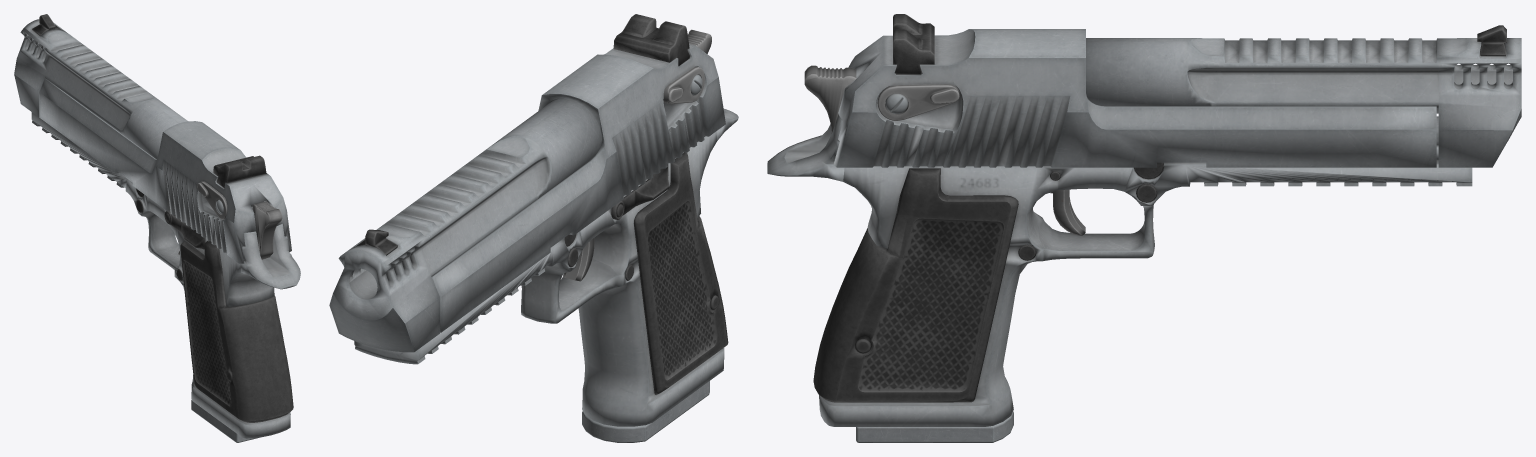
The model's file is deagle-world.glb.
The picture shows the model from 3 angles, left to right: view 1: azimuth 30°, elevation 25°; view 2: azimuth 150°, elevation 25°; view 3: azimuth 270°, elevation 25°; orthographic projection. The views are drawn at different scales.
Parts seen in each view (by area): view 1: slide, Grip, Barrel, Frame, Hammer, Ironsights Back, Slide Stop, magazine, Safety, Ironsights Front; view 2: Barrel, slide, Frame, Grip, Ironsights Back, magazine, Slide Stop, Safety, Trigger, Ironsights Front; view 3: slide, Barrel, Grip, Frame, magazine, Ironsights Back, Safety, Hammer, FrameScews, Trigger, Ironsights Front.
Boxes of the visible parts, box(x1,y1,x2,y2) form: slide: box(39, 78, 291, 263); Grip: box(180, 241, 293, 422); Barrel: box(14, 19, 187, 159); Frame: box(31, 112, 300, 438); Hammer: box(252, 201, 282, 259); Ironsights Back: box(213, 155, 266, 188); Slide Stop: box(164, 211, 205, 249); magazine: box(191, 207, 260, 442); Safety: box(197, 181, 227, 219); Ironsights Front: box(32, 14, 60, 35); Barrel: box(329, 98, 601, 352); slide: box(432, 44, 725, 332); Frame: box(354, 109, 738, 426); Grip: box(634, 152, 728, 395); Ironsights Back: box(613, 14, 689, 66); magazine: box(582, 381, 709, 442); Slide Stop: box(611, 164, 669, 219); Safety: box(663, 66, 704, 103); Trigger: box(563, 238, 594, 281); Ironsights Front: box(356, 229, 397, 255); slide: box(833, 29, 1438, 167); Barrel: box(1086, 38, 1521, 167); Grip: box(813, 168, 1018, 402); Frame: box(767, 114, 1472, 426); magazine: box(856, 411, 1013, 442); Ironsights Back: box(893, 14, 934, 74); Safety: box(877, 84, 959, 120); Hammer: box(804, 65, 856, 133); FrameScews: box(1018, 162, 1163, 260); Trigger: box(1050, 189, 1085, 235); Ironsights Front: box(1477, 25, 1506, 56).
Bounding box in the file's own units: 0.0419 × 0.1878 × 0.32.
6 materials, 6 textured.
